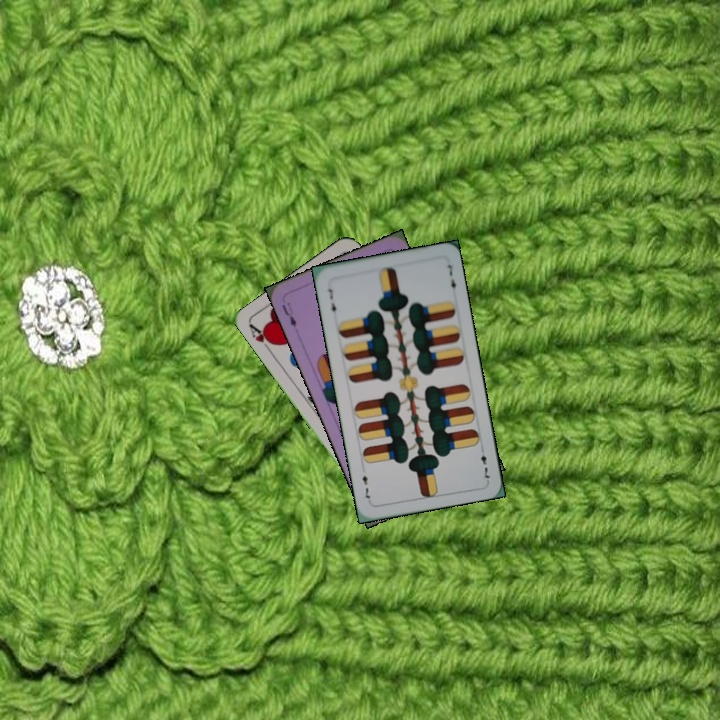E7: (476, 443, 493, 483), (324, 285, 339, 319)
EU: (278, 298, 299, 329)
HA: (245, 320, 278, 356)
